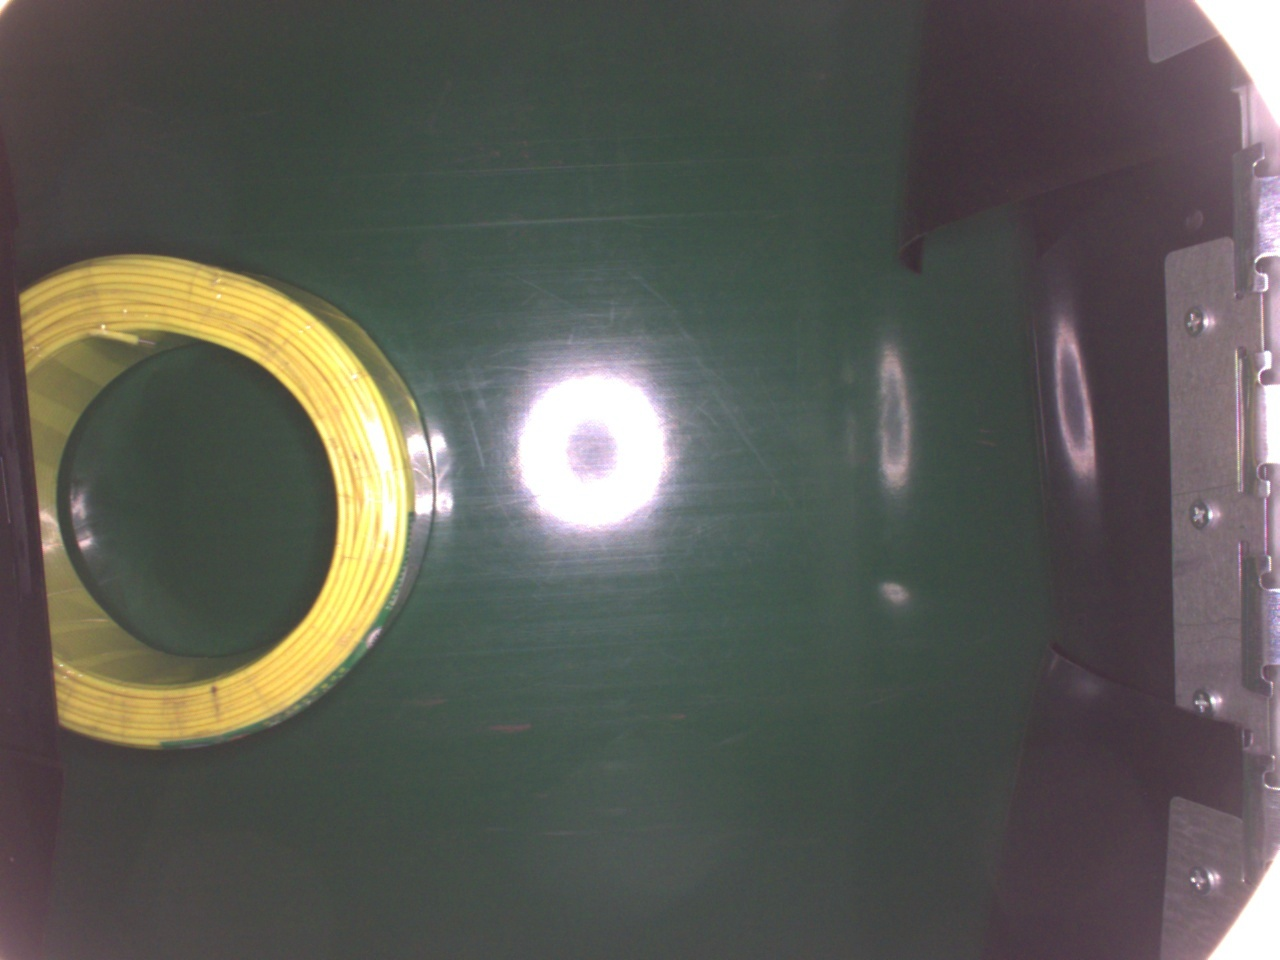yellow: (13, 254, 432, 752)
